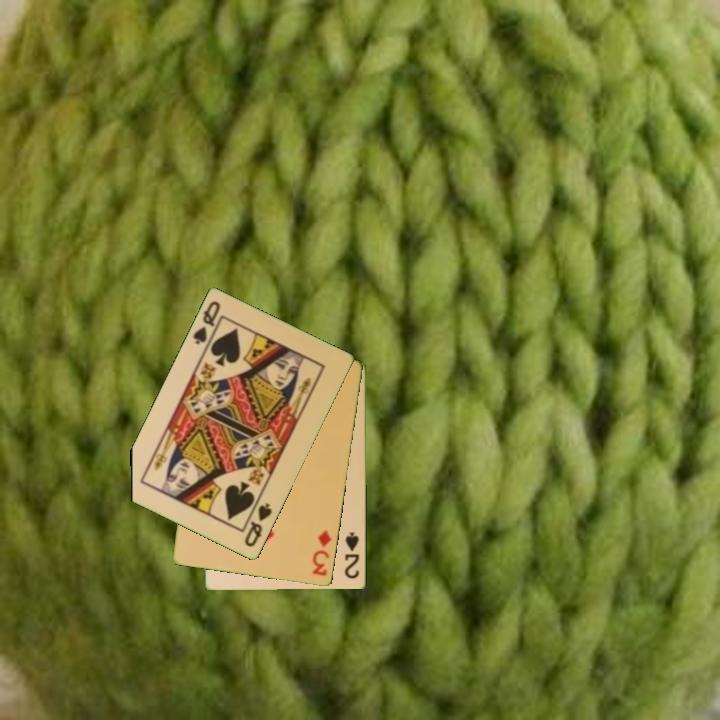2s: (341, 529, 362, 582)
3d: (309, 527, 334, 579)
Qs: (189, 298, 225, 352), (241, 500, 275, 550)
